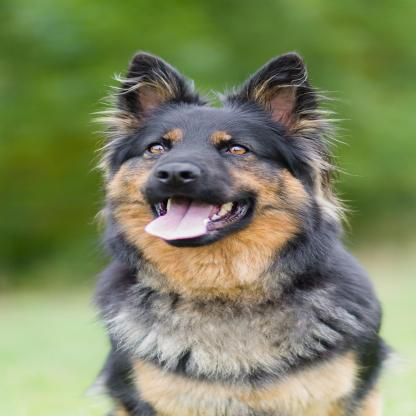dog: (99, 48, 376, 416)
